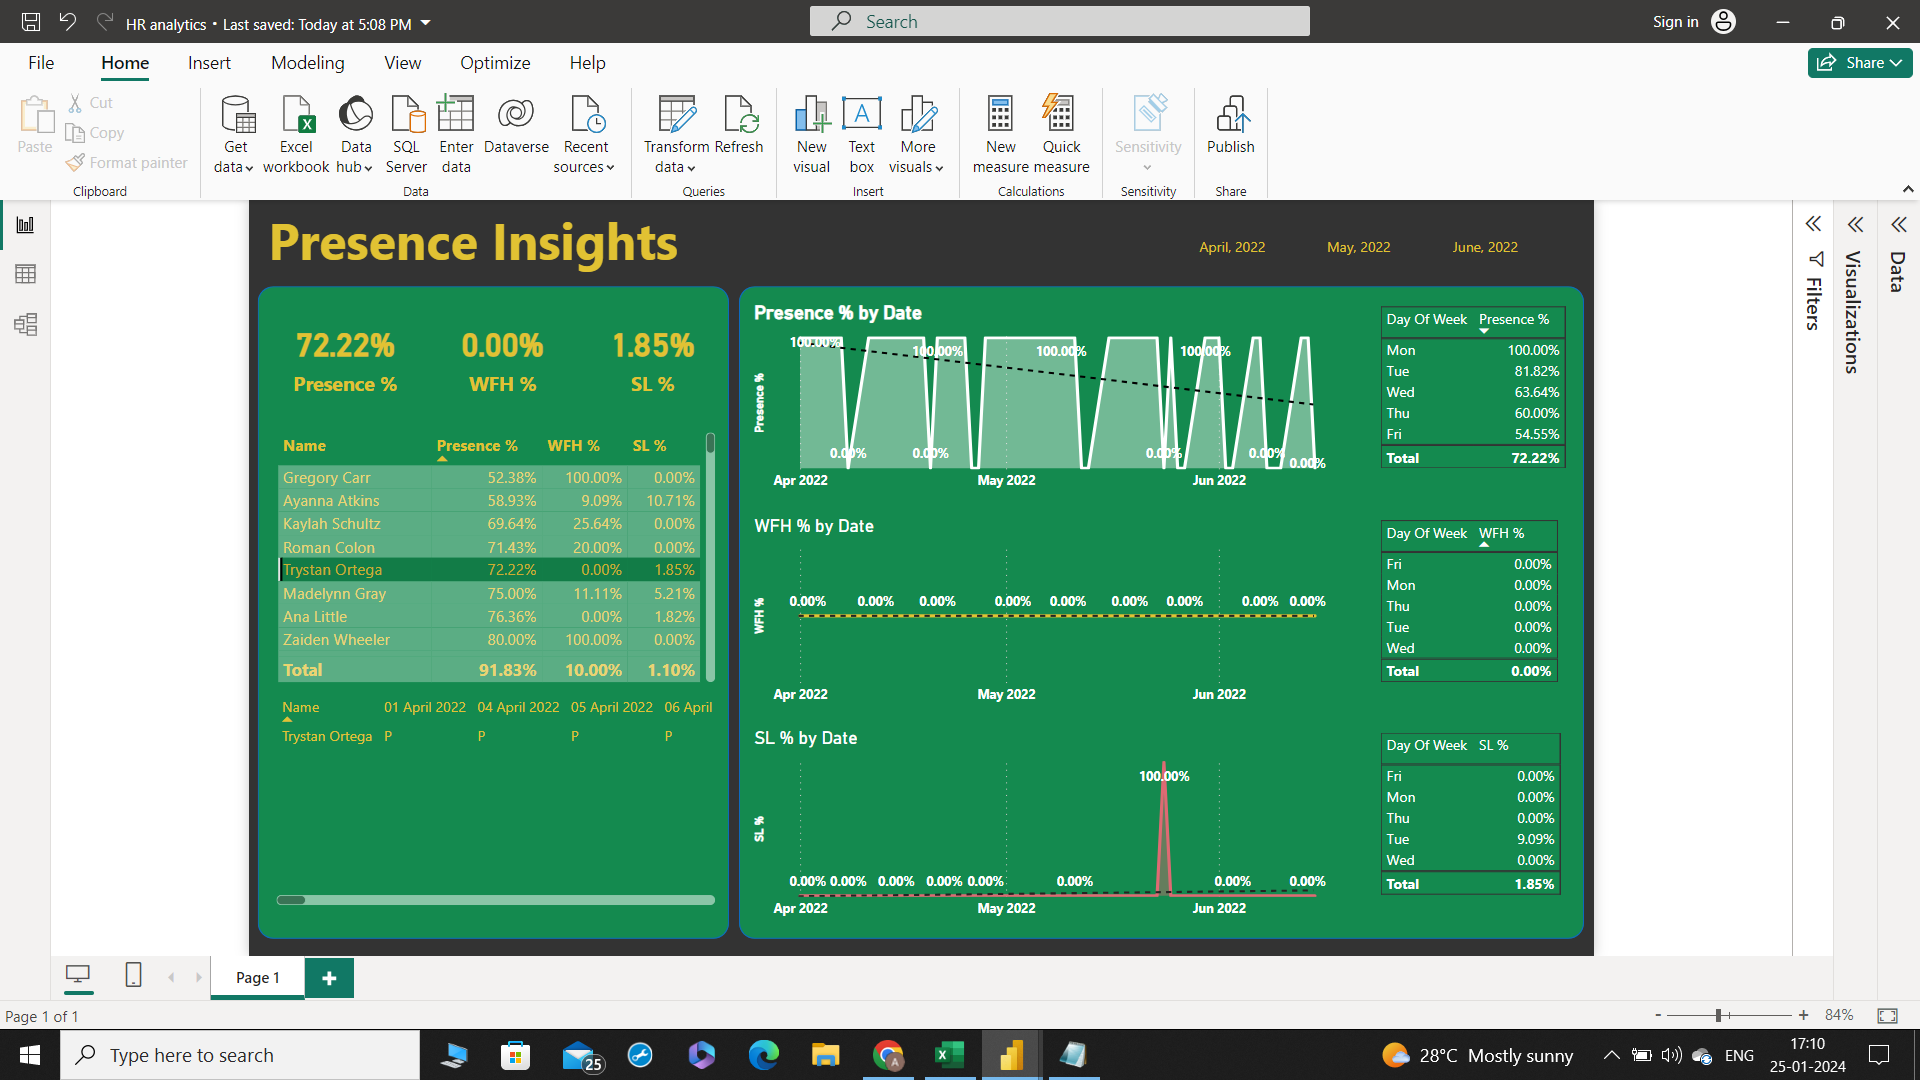

What the dashboard file says about the page in this screenshot:
{"tool":"powerbi","page":{"name":"Page 1","canvas":[1280,720],"ordinal":0},"visuals":[{"type":"shape","box":[8.3,82.1,448.7,621.2],"z":0},{"type":"shape","box":[466.5,82.1,804.5,621.2],"z":1000},{"type":"card","fields":{"Values":["Measure Table.Presence %"]},"box":[21.4,96.4,140.4,104.7],"z":2000},{"type":"slicer","fields":{"Values":["Final Data.Month"]},"box":[850.9,15.5,409.4,58.3],"z":3000},{"type":"card","fields":{"Values":["Measure Table.WFH %"]},"box":[185.7,96.4,111.9,104.7],"z":4000},{"type":"card","fields":{"Values":["Measure Table.SL %"]},"box":[320.1,96.4,128.5,104.7],"z":5000},{"type":"tableEx","fields":{"Values":["Final Data.Name","Measure Table.Presence %","Measure Table.WFH %","Measure Table.SL %"]},"box":[21.4,216.6,427.2,247.5],"z":6000},{"type":"textbox","box":[0,0,427.2,80.9],"z":7000},{"type":"pivotTable","fields":{"Rows":["Final Data.Name"],"Columns":["Final Data.Date"],"Values":["Min(Final Data.Value)"]},"box":[21.4,466.5,427.2,209.5],"z":8000},{"type":"areaChart","fields":{"Y":["Measure Table.Presence %"],"Category":["Final Data.Date"]},"box":[476,96.4,570,189.2],"z":9000},{"type":"areaChart","fields":{"Y":["Measure Table.WFH %"],"Category":["Final Data.Date"]},"box":[476,299.9,570,189.2],"z":10000},{"type":"areaChart","fields":{"Y":["Measure Table.SL %"],"Category":["Final Data.Date"]},"box":[476,502.2,570,190.4],"z":11000},{"type":"tableEx","fields":{"Values":["Final Data.Day Of Week","Measure Table.Presence %"]},"box":[1071.1,96.4,189.2,174.9],"z":12000},{"type":"tableEx","fields":{"Values":["Final Data.Day Of Week","Measure Table.WFH %"]},"box":[1071.1,299.9,189.2,164.2],"z":13000},{"type":"tableEx","fields":{"Values":["Final Data.Day Of Week","Measure Table.SL %"]},"box":[1071.1,502.2,189.2,164.2],"z":14000}]}

Visuals, with their boxes on the page's 1280x720 design canvas (x1, y1, x2, y2). These are canvas units, not pixel positions in the 1920x1080 screenshot, which may show the page scaled, cropped or inside an application window:
shape: bbox(8, 82, 457, 703)
shape: bbox(466, 82, 1271, 703)
card - Measure Table.Presence %: bbox(21, 96, 162, 201)
slicer - Final Data.Month: bbox(851, 16, 1260, 74)
card - Measure Table.WFH %: bbox(186, 96, 298, 201)
card - Measure Table.SL %: bbox(320, 96, 449, 201)
tableEx - Final Data.Name x Measure Table.Presence %: bbox(21, 217, 449, 464)
textbox: bbox(0, 0, 427, 81)
pivotTable - Final Data.Name x Final Data.Date: bbox(21, 466, 449, 676)
areaChart - Measure Table.Presence % x Final Data.Date: bbox(476, 96, 1046, 286)
areaChart - Measure Table.WFH % x Final Data.Date: bbox(476, 300, 1046, 489)
areaChart - Measure Table.SL % x Final Data.Date: bbox(476, 502, 1046, 693)
tableEx - Final Data.Day Of Week x Measure Table.Presence %: bbox(1071, 96, 1260, 271)
tableEx - Final Data.Day Of Week x Measure Table.WFH %: bbox(1071, 300, 1260, 464)
tableEx - Final Data.Day Of Week x Measure Table.SL %: bbox(1071, 502, 1260, 666)
